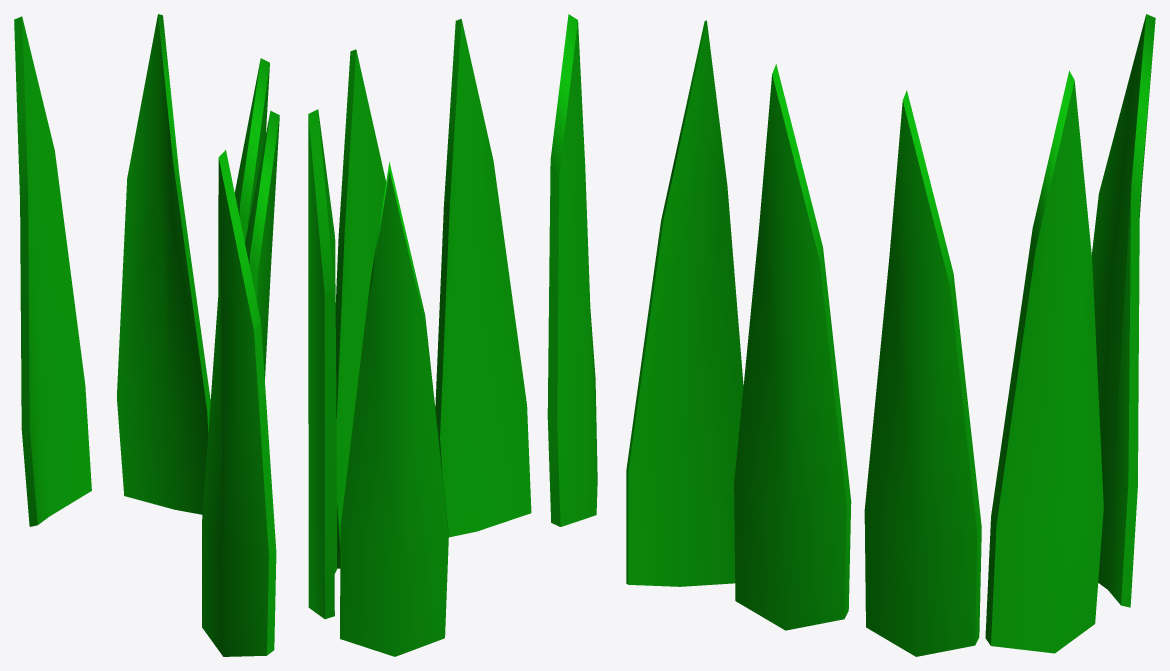
Rendered from Herbs.fbx.
3 views of the same model, side by side, from view 1: azimuth 30°, elevation 25°; view 2: azimuth 150°, elevation 25°; view 3: azimuth 270°, elevation 25° (orthographic). The views are drawn at different scales.
Parts seen in each view (by area): view 1: Herb; view 2: Herb; view 3: Herb.
Boxes of the visible parts, left/top/right/bottom form: Herb: left=14, top=14, right=279, bottom=656; Herb: left=308, top=14, right=597, bottom=656; Herb: left=626, top=14, right=1155, bottom=656.
Size of the model in its own units: 7.18 by 19.78 by 16.47.
